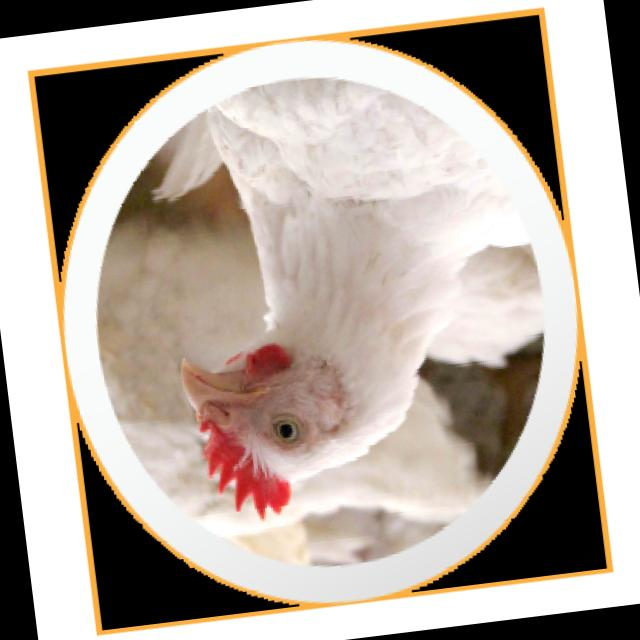Healthy: (149, 102, 502, 528)
